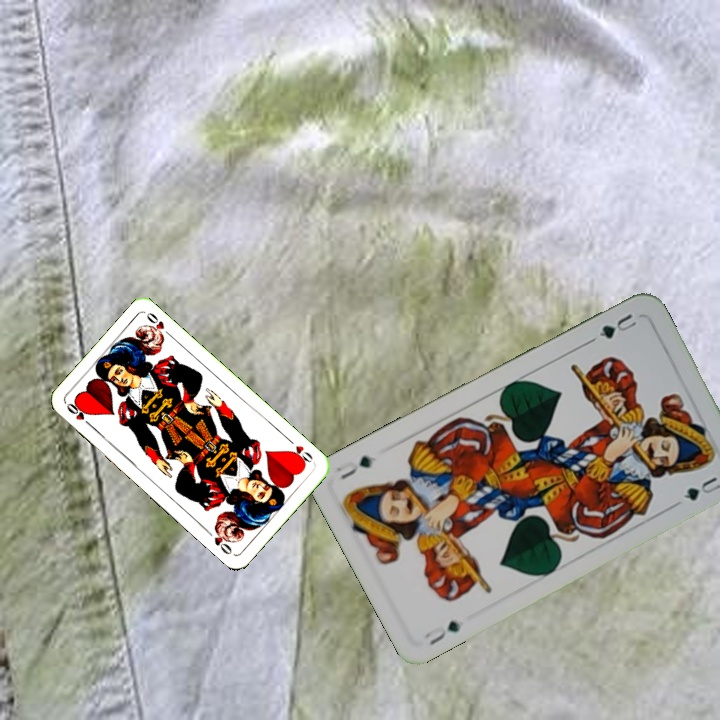GU: (595, 309, 641, 342), (419, 616, 464, 648)
HO: (284, 434, 317, 467), (62, 399, 96, 430)
